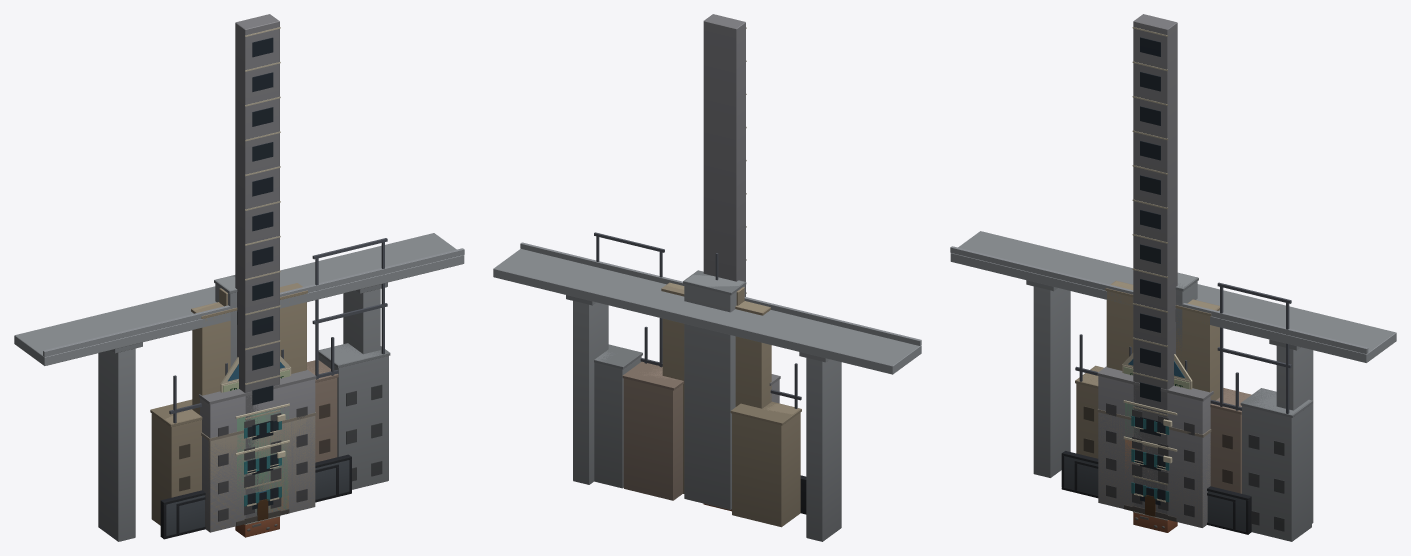
File: kit_street_market.glb
3 renders of one model, left to right at view 1: azimuth 30°, elevation 25°; view 2: azimuth 150°, elevation 25°; view 3: azimuth 330°, elevation 25°, orthographic. The views are drawn at different scales.
Parts seen in each view (by area): view 1: sm_flyover, sm_edge_block, sm_east_block, sm_far_block_a, sm_far_block_b, sm_junction_block, sm_hoarding_21x3_5, sm_house_3f, sm_hoarding_18x3, sm_house_2f, sm_screen_tower, sm_billboard (+1 smaller); view 2: sm_flyover, sm_east_block, sm_edge_block, sm_screen_tower, sm_junction_block; view 3: sm_flyover, sm_edge_block, sm_east_block, sm_far_block_a, sm_junction_block, sm_hoarding_21x3_5, sm_far_block_b, sm_house_2f, sm_house_3f, sm_screen_tower, sm_hoarding_18x3, sm_billboard (+1 smaller).
Part boxes in pixels (<box>): sm_flyover: <box>14,233,464,541</box>; sm_edge_block: <box>235,14,280,523</box>; sm_east_block: <box>150,238,390,525</box>; sm_far_block_a: <box>199,369,316,532</box>; sm_far_block_b: <box>201,412,316,532</box>; sm_junction_block: <box>191,283,307,414</box>; sm_hoarding_21x3_5: <box>160,454,351,539</box>; sm_house_3f: <box>235,403,289,520</box>; sm_hoarding_18x3: <box>176,464,338,535</box>; sm_house_2f: <box>235,440,289,526</box>; sm_screen_tower: <box>214,275,237,367</box>; sm_billboard: <box>220,349,291,392</box>; sm_flyover: <box>493,242,921,541</box>; sm_east_block: <box>594,232,801,527</box>; sm_edge_block: <box>703,14,746,296</box>; sm_screen_tower: <box>683,253,746,509</box>; sm_junction_block: <box>661,282,771,493</box>; sm_flyover: <box>950,231,1396,523</box>; sm_edge_block: <box>1132,14,1177,519</box>; sm_east_block: <box>1075,282,1313,541</box>; sm_far_block_a: <box>1097,366,1213,527</box>; sm_junction_block: <box>1105,280,1219,403</box>; sm_hoarding_21x3_5: <box>1061,451,1251,534</box>; sm_far_block_b: <box>1097,409,1211,527</box>; sm_house_2f: <box>1123,436,1177,521</box>; sm_house_3f: <box>1123,400,1177,501</box>; sm_screen_tower: <box>1175,272,1198,357</box>; sm_hoarding_18x3: <box>1074,460,1235,529</box>; sm_billboard: <box>1122,346,1192,389</box>.
Bounding box in the file's own units: 48 × 55.5 × 7.85.
